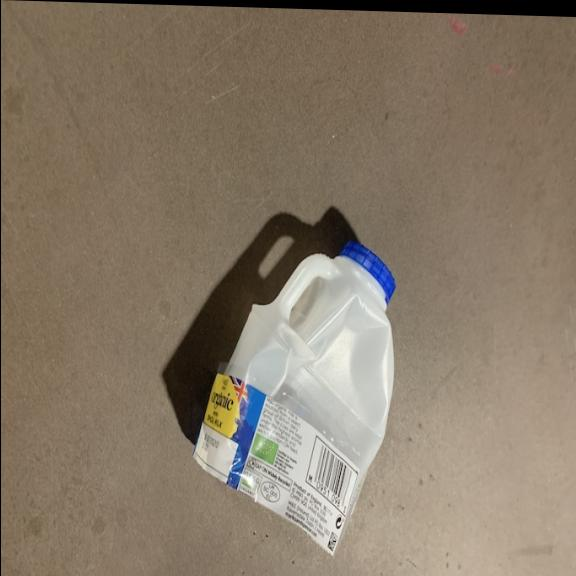Plastik: (196, 237, 398, 540)
